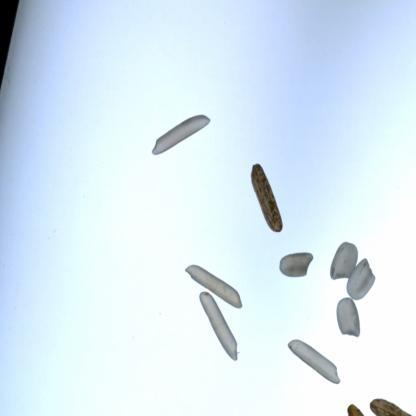Full: (144, 100, 212, 184), (235, 163, 298, 241), (191, 292, 248, 369), (180, 263, 248, 310), (289, 342, 353, 383), (270, 245, 316, 287), (331, 294, 371, 338), (370, 380, 416, 415), (344, 252, 376, 302), (324, 236, 353, 284), (341, 394, 370, 416)
